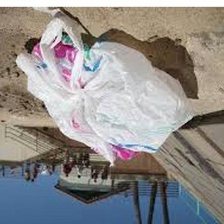plastic_bag: (11, 9, 204, 169)
